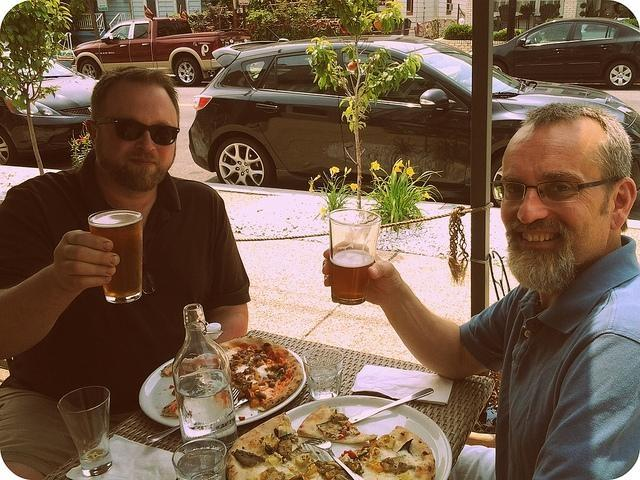car: (188, 35, 640, 220), (0, 46, 98, 164), (493, 17, 640, 89)
truck: (71, 16, 253, 86)
